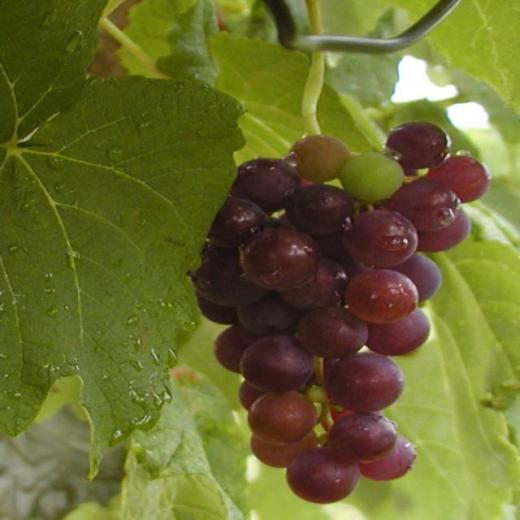Orange: (191, 123, 495, 506)
